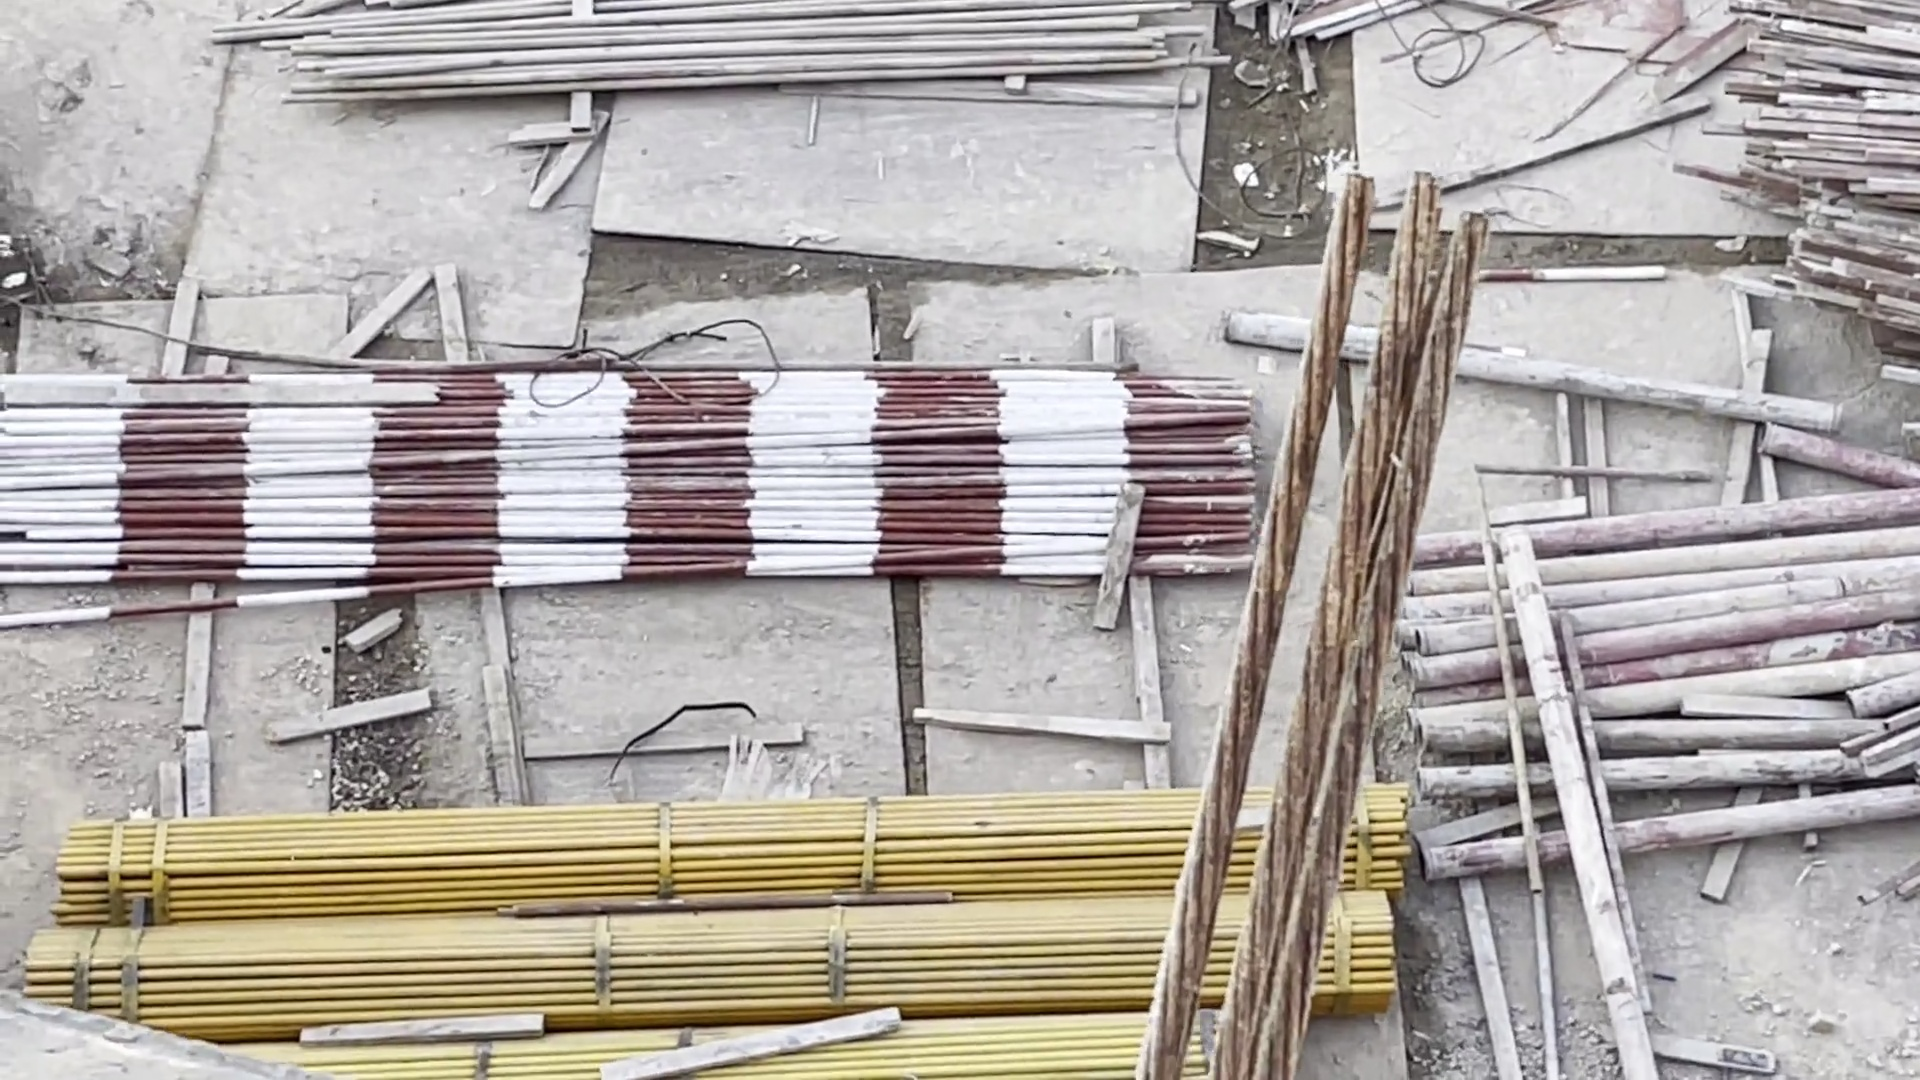scaffold: (1373, 522, 1876, 861)
wood: (1759, 28, 1920, 335)
